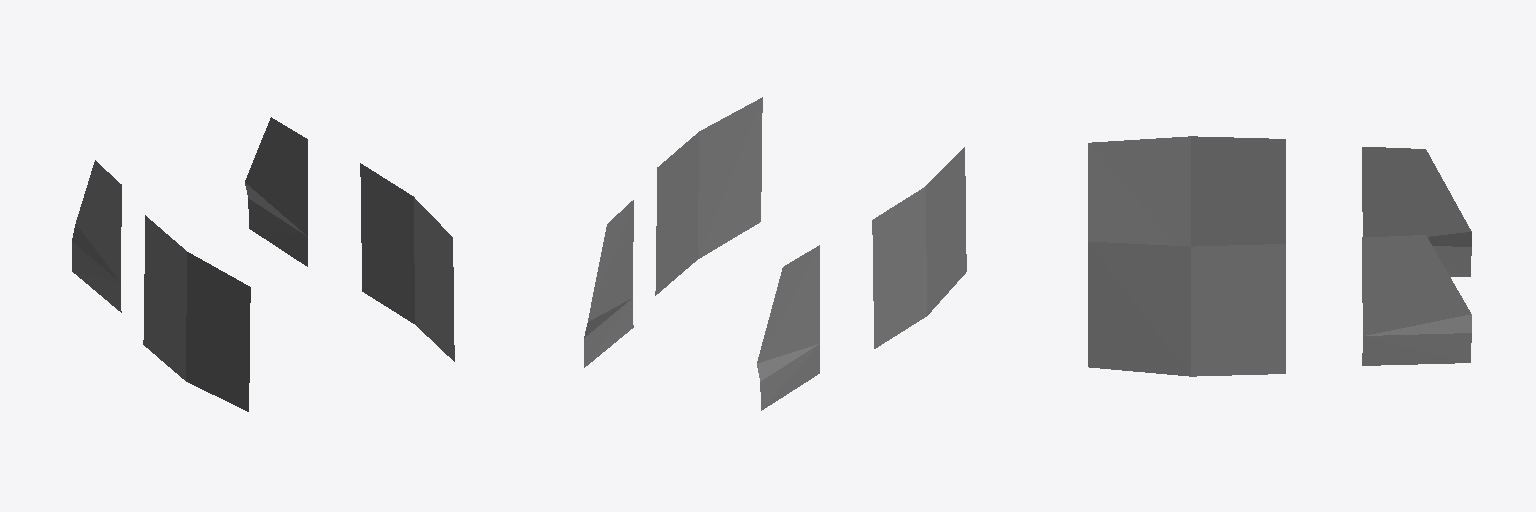
The model's file is doors.obj.
3 views of the same model, side by side, from view 1: azimuth 30°, elevation 25°; view 2: azimuth 150°, elevation 25°; view 3: azimuth 270°, elevation 25° (orthographic).
Parts seen in each view (by area): view 1: Object10, Object03, Object06, Object09; view 2: Object03, Object10, Object09, Object06; view 3: Object03, Object10, Object06, Object09.
Part boxes in pixels (x1,y1,x2,y2): Object10: (143,215,250,411); Object03: (360,163,454,361); Object06: (245,117,307,266); Object09: (72,160,121,312); Object03: (655,97,762,295); Object10: (872,147,966,348); Object09: (757,245,819,410); Object06: (584,200,633,367); Object03: (1088,242,1285,376); Object10: (1088,136,1285,246); Object06: (1362,235,1471,365); Object09: (1362,147,1471,276).
Bounding box in the file's own units: 151 × 80.96 × 218.